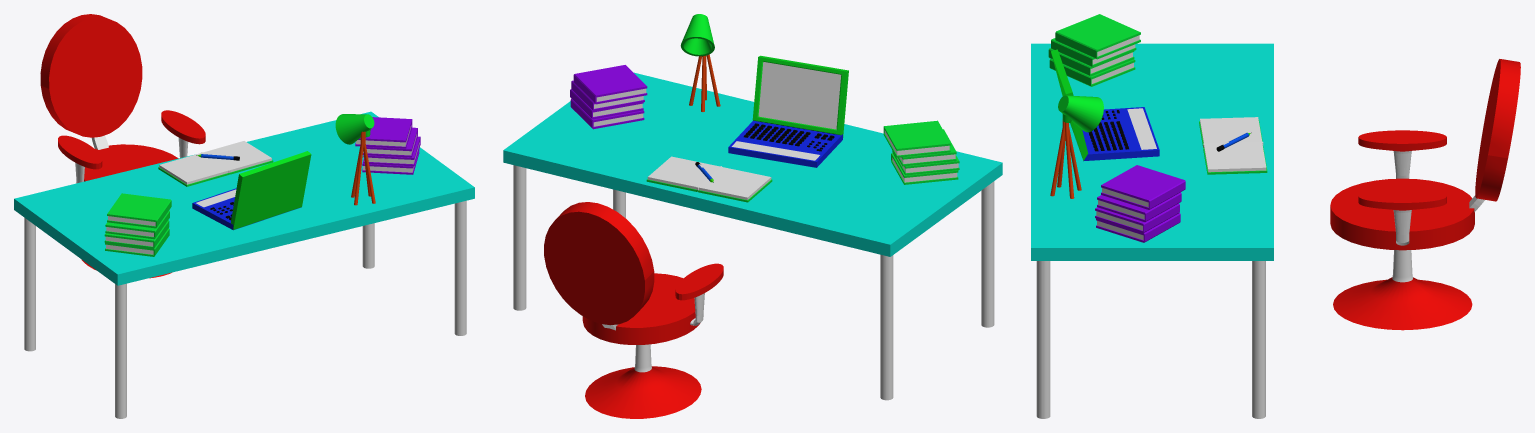
Rendered from Working_table.fbx.
3 views of the same model, side by side, from view 1: azimuth 30°, elevation 25°; view 2: azimuth 150°, elevation 25°; view 3: azimuth 270°, elevation 25° (orthographic). The views are drawn at different scales.
Parts seen in each view (by area): view 1: Cylinder.008, Cylinder.014, Cube.056, Cube.057, Cube.055, Cube.058, Cylinder.013, Cylinder.012; view 2: Cylinder.008, Cylinder.014, Cube.056, Cube.055, Cube.057, Cube.058, Cylinder.013, Cylinder.012; view 3: Cylinder.008, Cylinder.014, Cube.055, Cube.057, Cube.056, Cube.058, Cylinder.013, Cylinder.012.
Part boxes in pixels (x1=…): Cylinder.008: x1=14, y1=111, x2=474, y2=418; Cylinder.014: x1=40, y1=14, x2=205, y2=278; Cube.056: x1=192, y1=151, x2=311, y2=230; Cube.057: x1=104, y1=193, x2=171, y2=256; Cube.055: x1=355, y1=117, x2=420, y2=174; Cube.058: x1=158, y1=141, x2=273, y2=186; Cylinder.013: x1=335, y1=114, x2=374, y2=144; Cylinder.012: x1=351, y1=131, x2=375, y2=205; Cylinder.008: x1=503, y1=72, x2=1002, y2=400; Cylinder.014: x1=544, y1=202, x2=723, y2=418; Cube.056: x1=728, y1=55, x2=848, y2=167; Cube.055: x1=570, y1=65, x2=647, y2=129; Cube.057: x1=883, y1=120, x2=959, y2=184; Cube.058: x1=646, y1=156, x2=772, y2=202; Cylinder.013: x1=680, y1=14, x2=714, y2=56; Cylinder.012: x1=689, y1=54, x2=720, y2=111; Cylinder.008: x1=1031, y1=43, x2=1273, y2=418; Cylinder.014: x1=1330, y1=59, x2=1520, y2=330; Cube.055: x1=1095, y1=165, x2=1185, y2=242; Cube.057: x1=1048, y1=14, x2=1140, y2=86; Cube.056: x1=1051, y1=49, x2=1159, y2=161; Cube.058: x1=1199, y1=117, x2=1267, y2=174; Cylinder.013: x1=1058, y1=95, x2=1103, y2=132; Cylinder.012: x1=1050, y1=119, x2=1081, y2=198.
Bounding box in the file's own units: 38.9 × 24.14 × 39.43.
